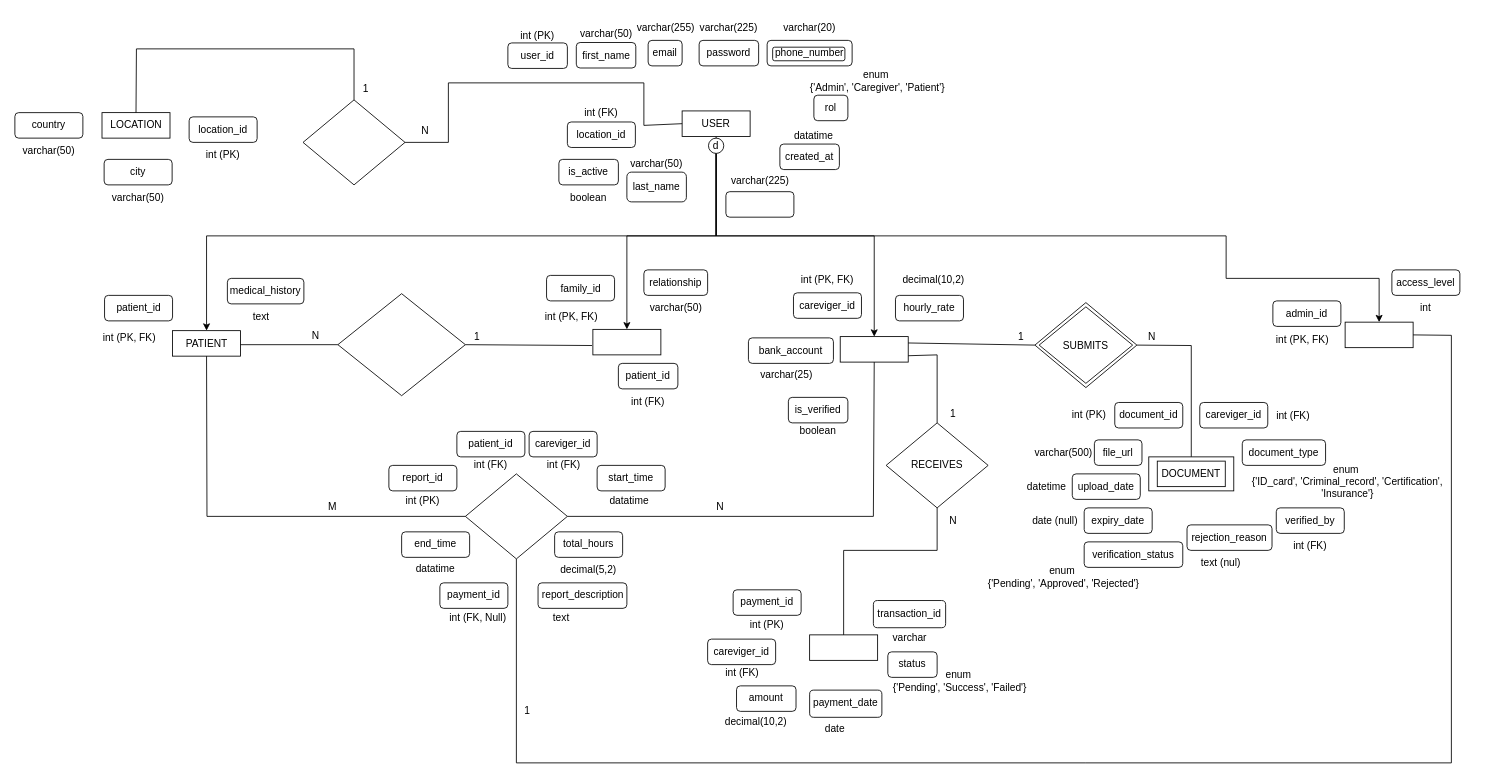
Image size: 1500x779. Some labels were removed from this diagram. The shapes that lost their labels are listed below. From the top down, each one's centre as x and y in pixels, then its label:
At pixel 353 142: "LIVES IN".
At pixel 759 204: "address_line".
At pixel 401 344: "RESPONSABLE FOR".
At pixel 626 342: "FAMILY".
At pixel 873 349: "CAREVIGER".
At pixel 1378 334: "ADMIN".
At pixel 516 516: "SHIFT_REPORT".
At pixel 843 647: "PAYMENT".
